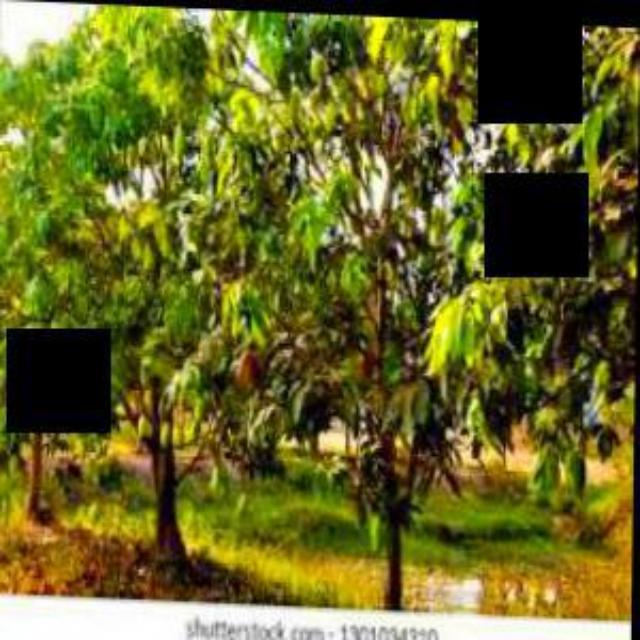tree: (252, 9, 630, 595), (0, 1, 236, 566)
